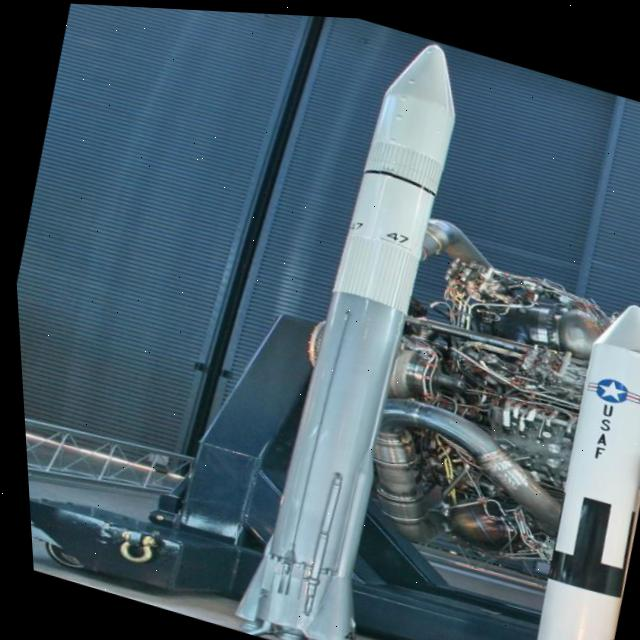missile: (219, 15, 491, 640)
